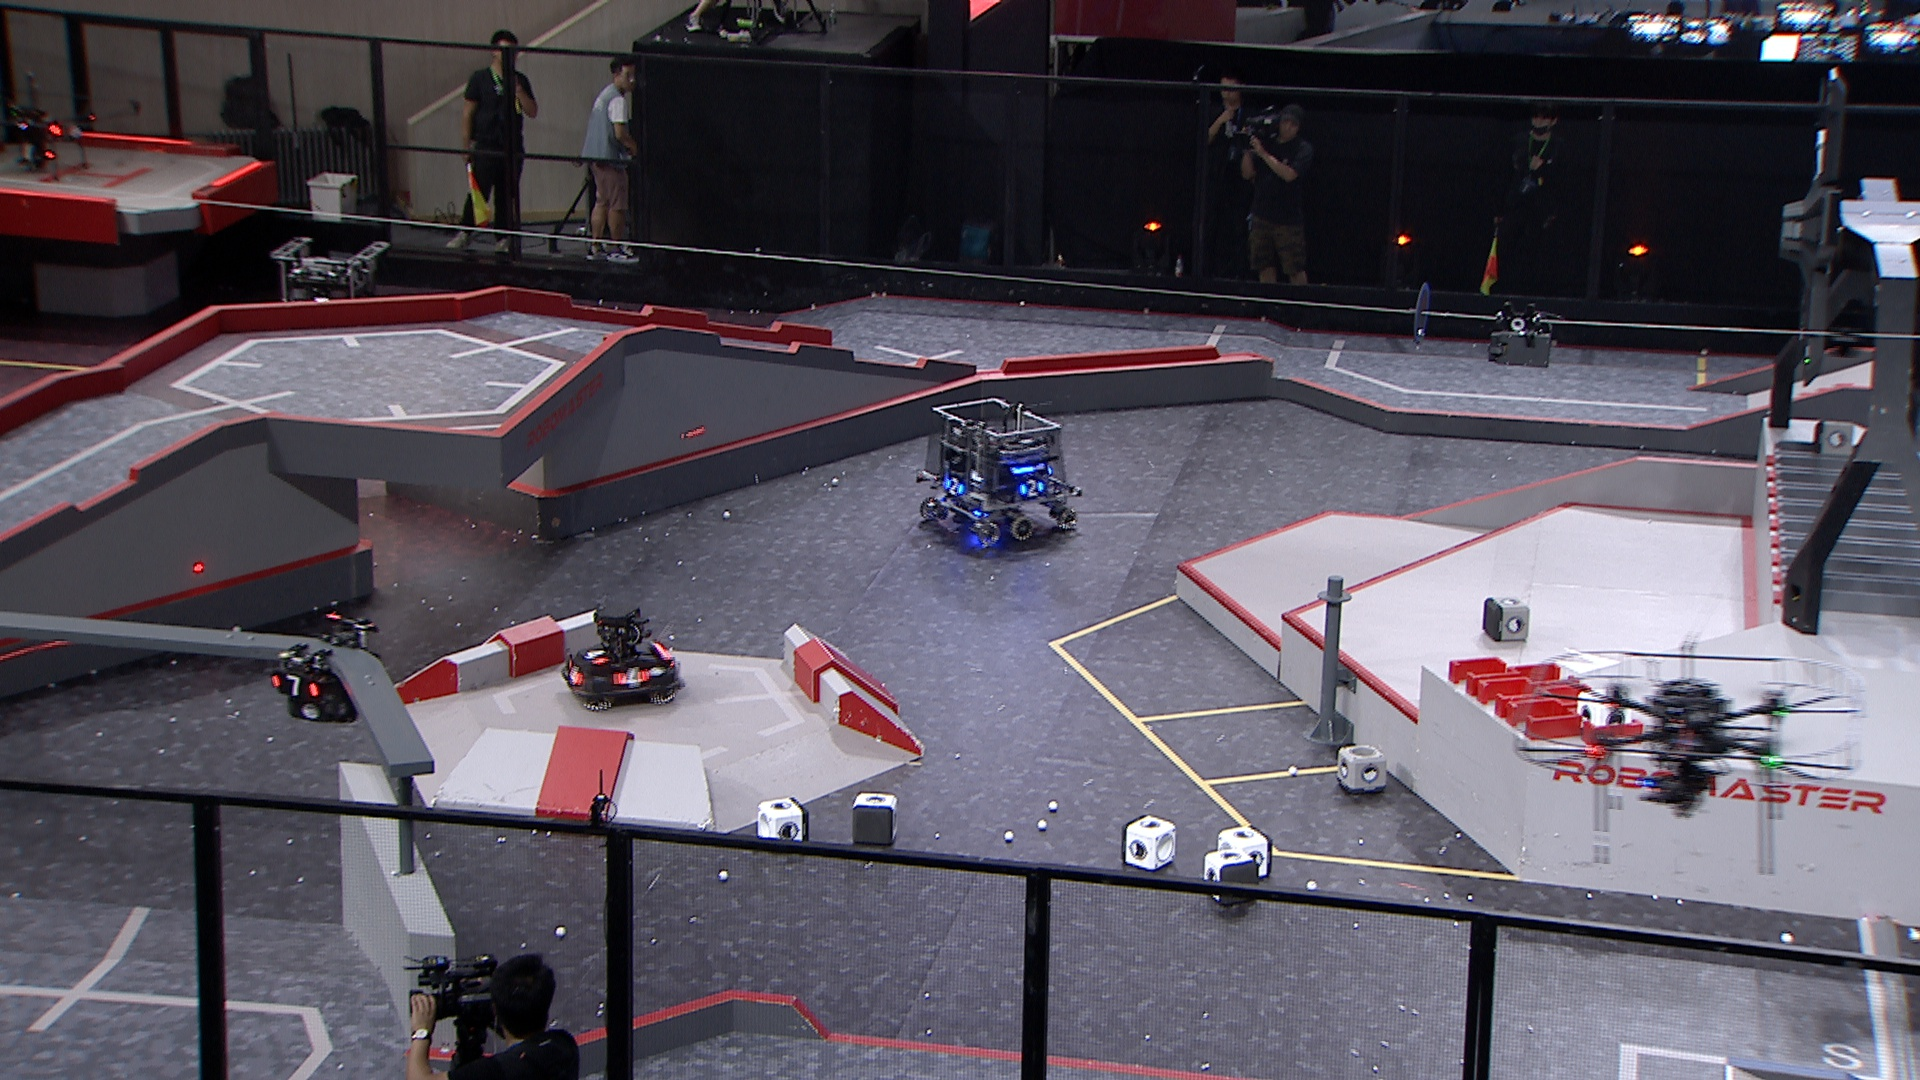armor: (268, 670, 323, 700), (613, 666, 651, 692), (562, 662, 585, 688), (584, 645, 611, 666), (942, 476, 965, 498), (1021, 479, 1044, 500)
car: (915, 398, 1087, 551), (266, 233, 392, 368), (558, 603, 688, 712)
watcher: (266, 603, 378, 723)
